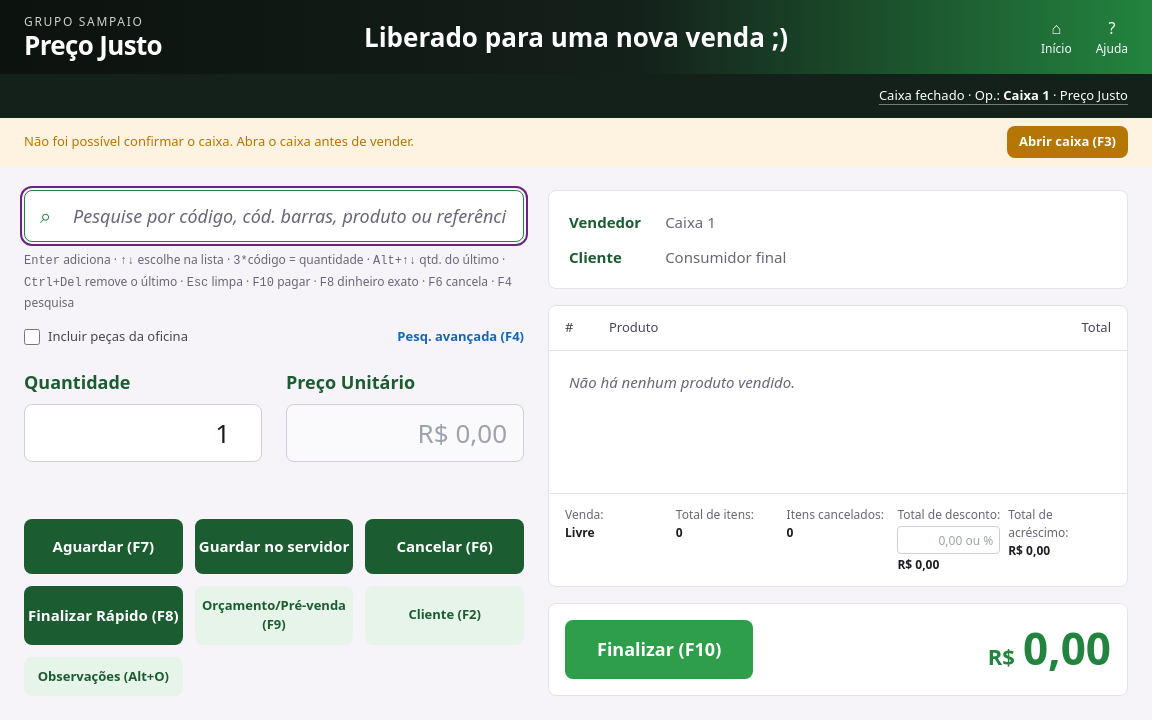
Test: G-offline-sync-M02 — sem lugar na fila, a venda NÃO é dada como guardada › o carrinho fica, a tela diz que a venda não foi registrada, e a repetição usa a MESMA chave
Step 1. Type "7890000001111" into the field with placeholder "Pesquise por código, cód. barras, produto ou referência" → [274, 216], box [24,190,524,242]
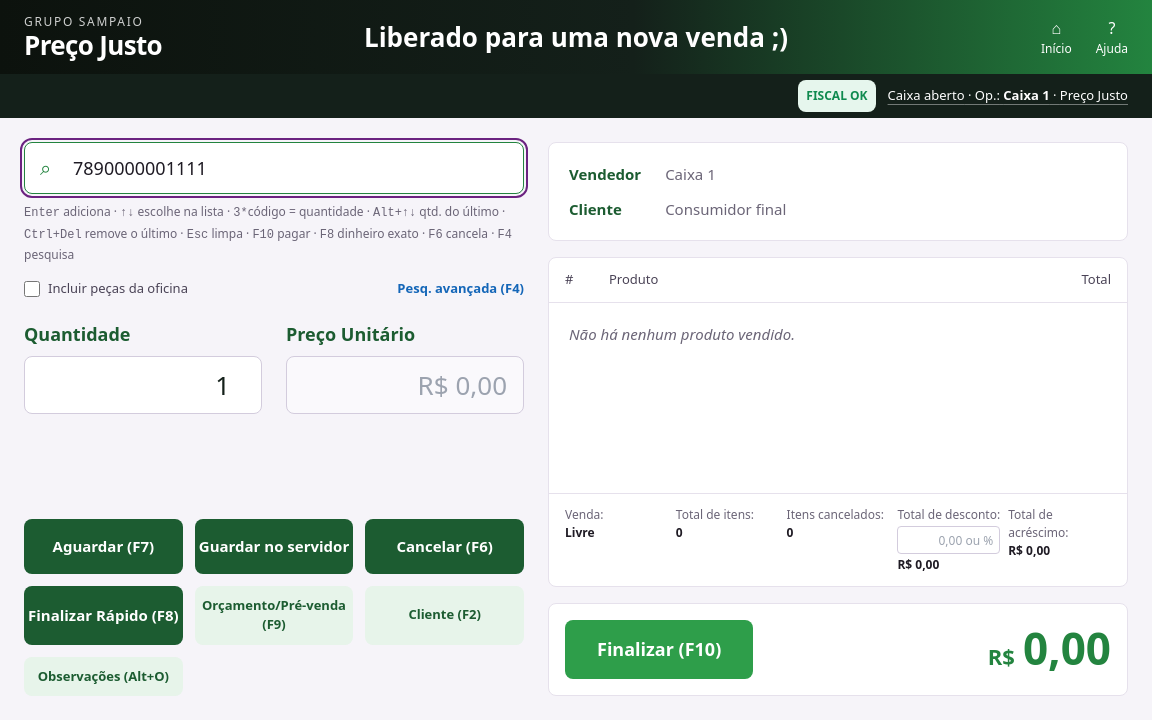
Step 2. Press Enter in the field with placeholder "Pesquise por código, cód. barras, produto ou referência", box [24,142,524,194]
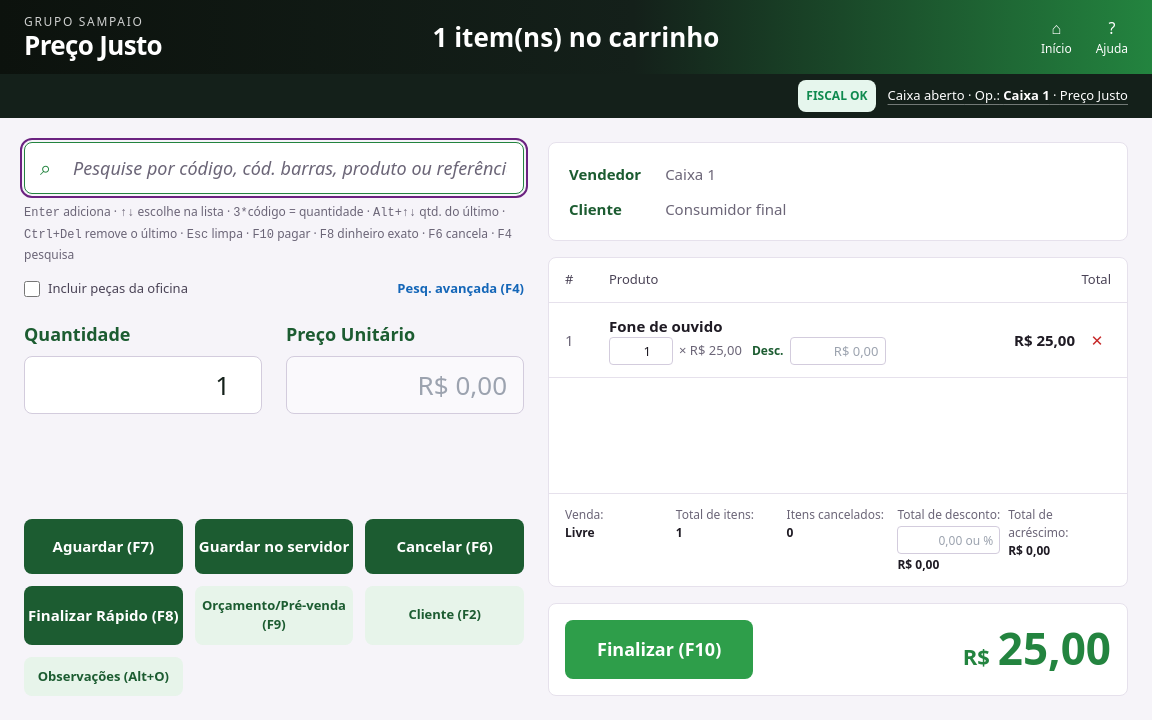
Now the text "Fone de ouvido" is shown, box [609,316,722,336]
Step 3. Click the button "Finalizar Rápido (F8)" → [103, 615], box [24,586,183,644]
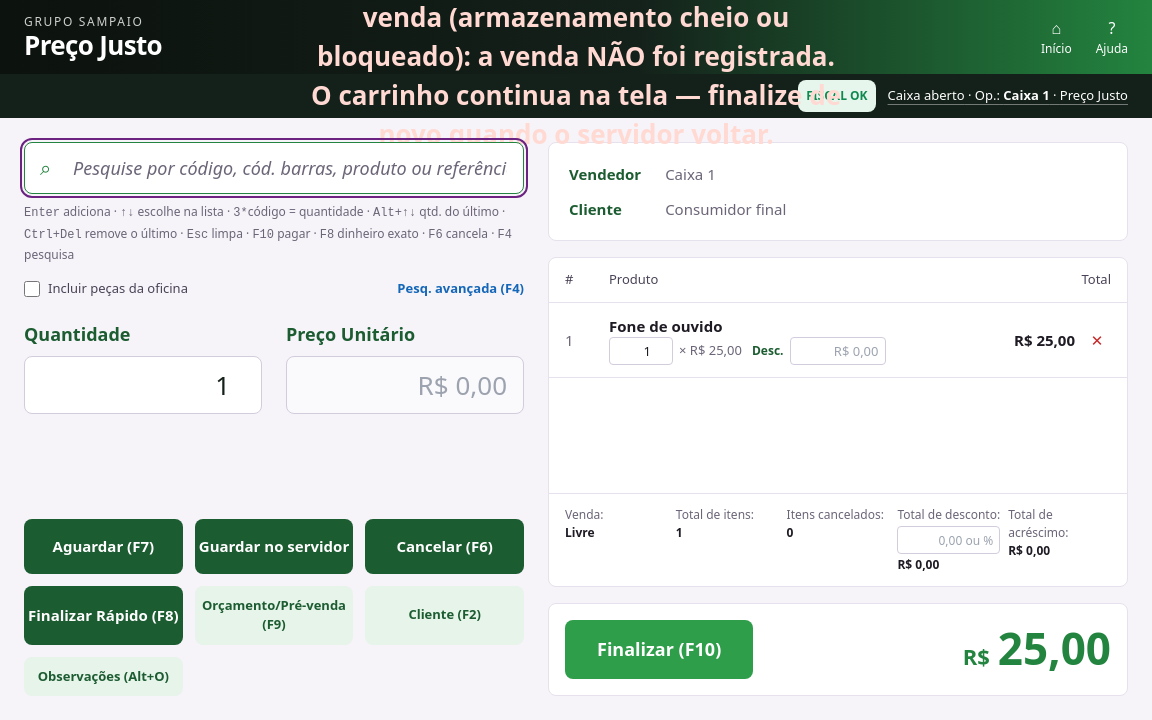
Now the text "Fone de ouvido" is shown, box [609,316,722,336]
Step 4. Click the button "Finalizar Rápido (F8)" → [103, 615], box [24,586,183,644]
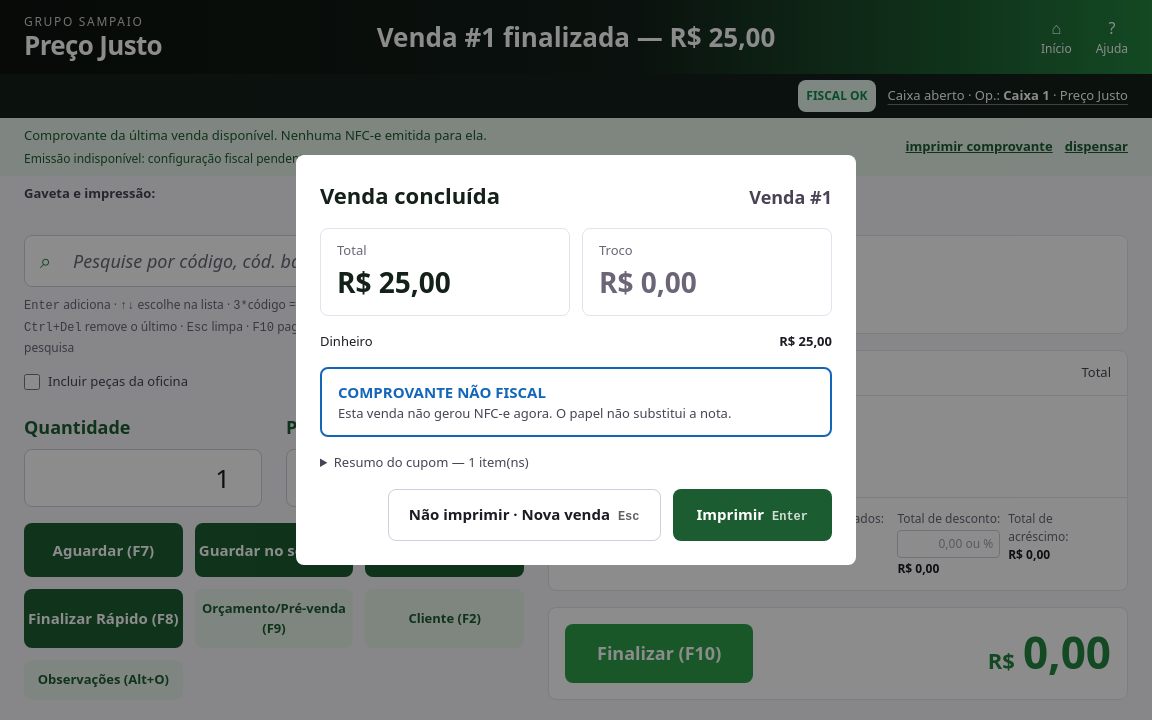
Now the text "Venda #1 finalizada — R$ 25,00" is shown, box [361,18,791,56]
